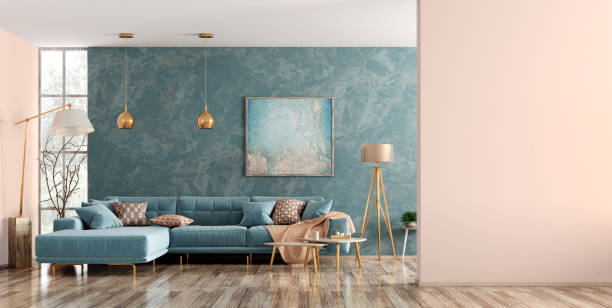floor lamp: (8, 102, 96, 270), (354, 140, 399, 264)
small plant: (400, 209, 416, 229)
sofa: (33, 193, 335, 278)
table: (305, 234, 367, 271), (265, 238, 327, 275)
wall art: (241, 93, 335, 178)
